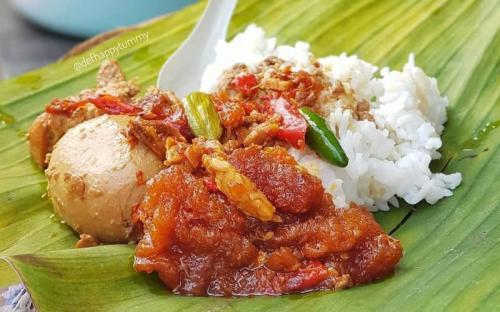gudeg: (29, 24, 463, 296)
